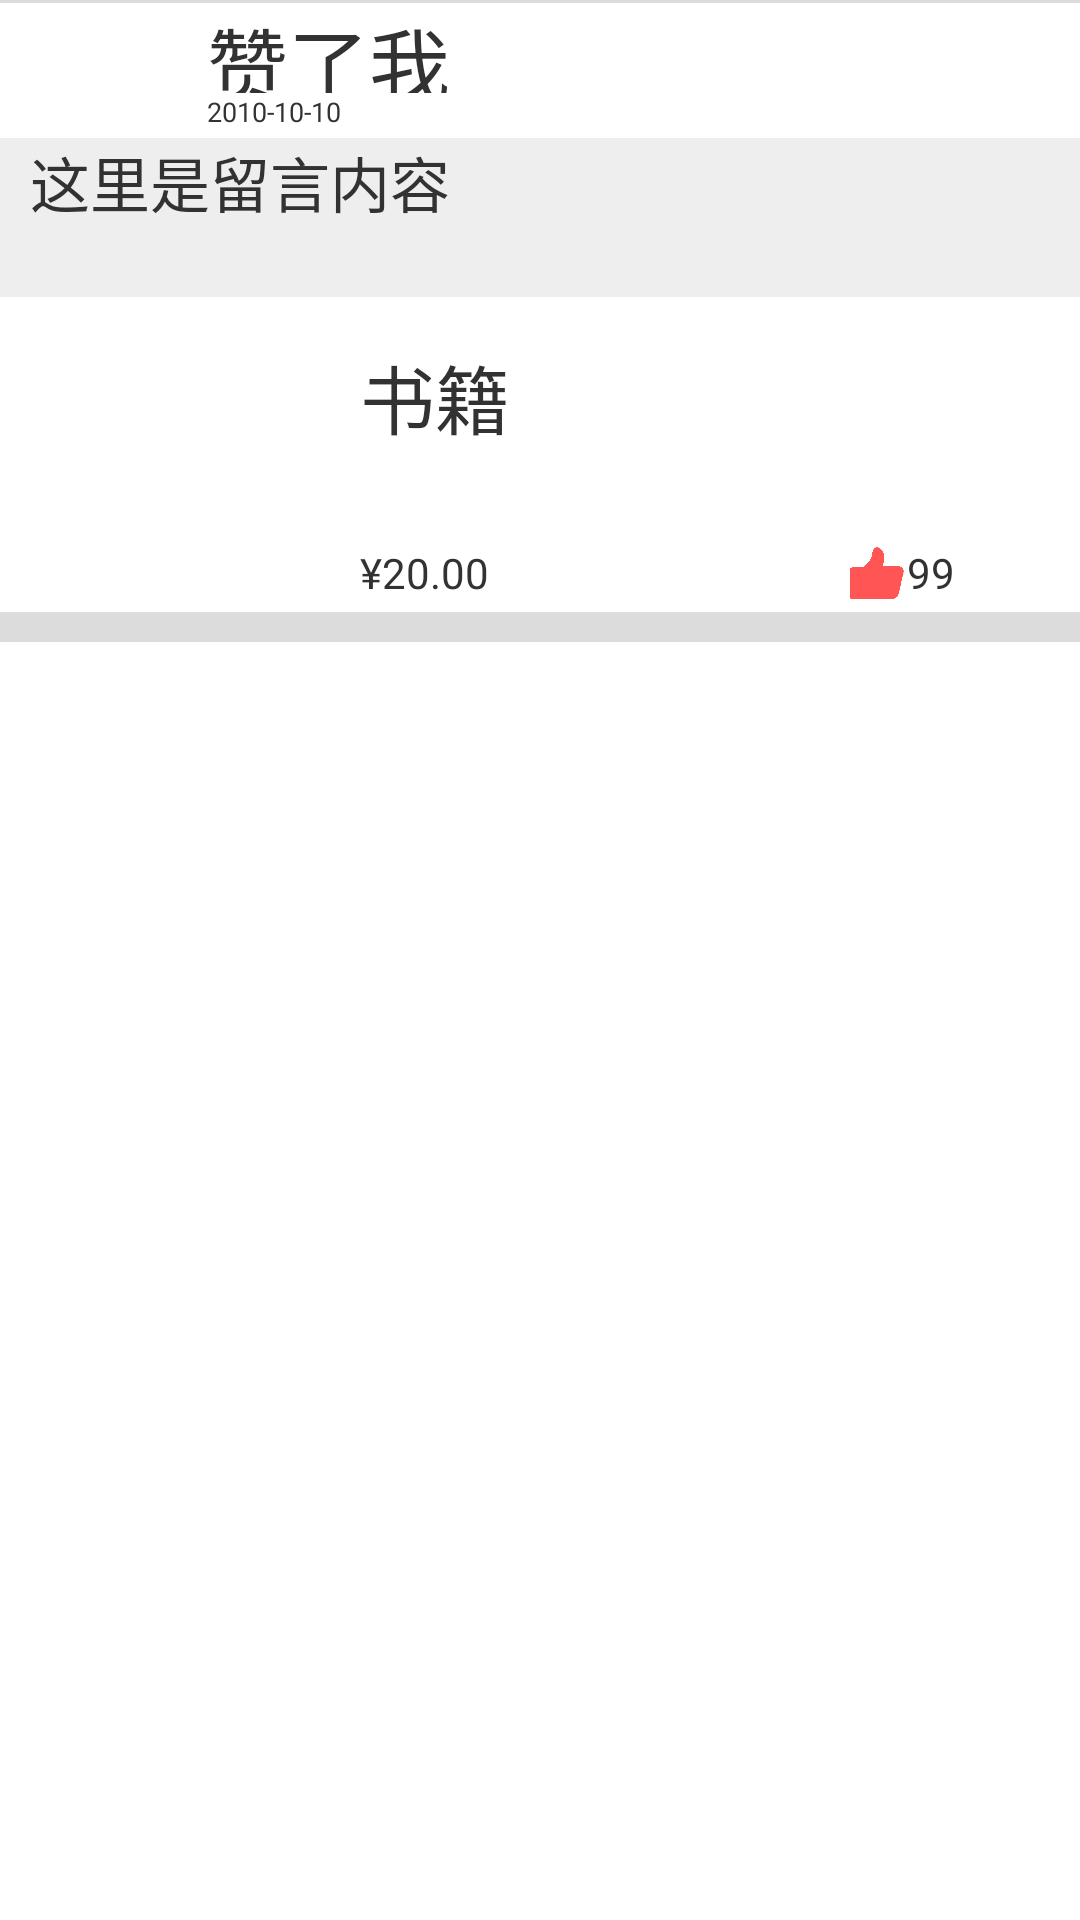

Icons on this 1080×1920 Android screen, each with the point to tap as [x,y]:
zan: [877,573]
